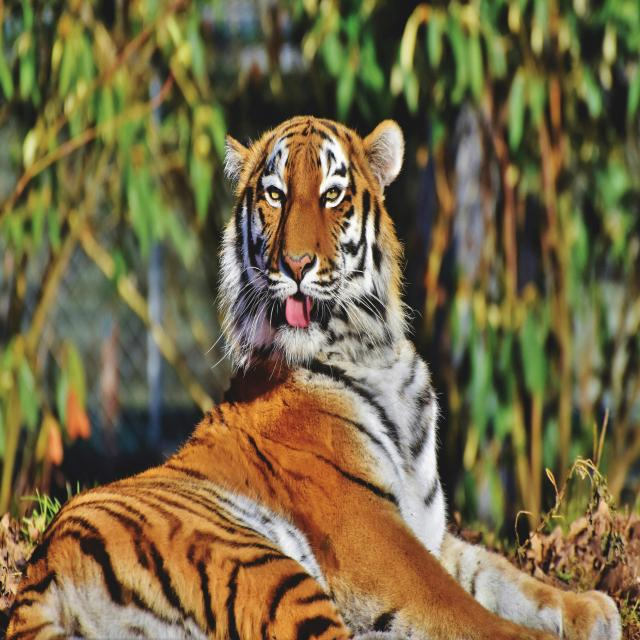Tiger: (4, 113, 627, 640)
